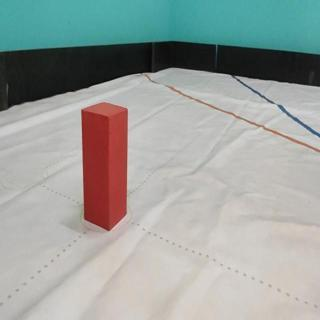redbox: (80, 101, 129, 232)
